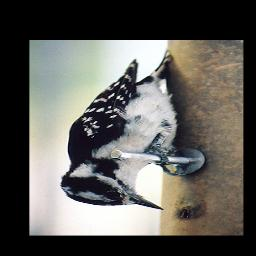Woodpecker: (60, 49, 186, 210)
